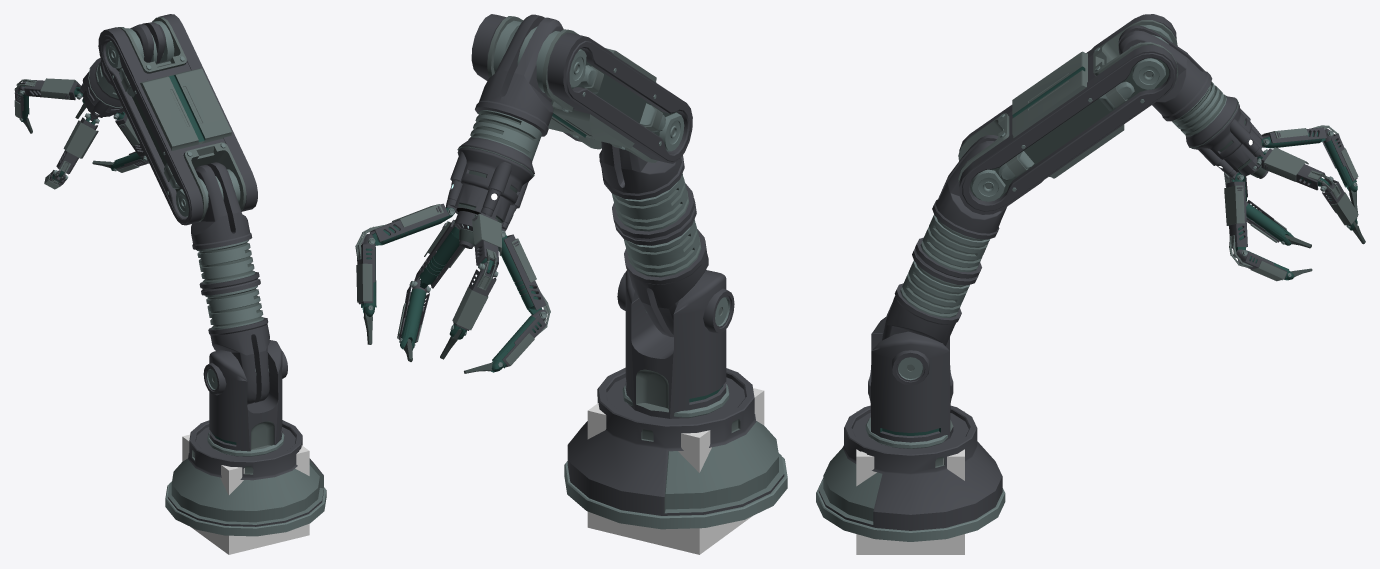
File: robot.glb
3 renders of one model, left to right at view 1: azimuth 30°, elevation 25°; view 2: azimuth 150°, elevation 25°; view 3: azimuth 270°, elevation 25°, orthographic. The views are drawn at different scales.
Visible parts, largest first — view 1: joint3, joint2, joint0, joint1, joint4, Cube, joint_base, finger0.4, finger0.3, finger0.1, Cylinder.005, finger1.1 (+1 smaller); view 2: joint0, joint3, joint4, joint2, joint1, Cube, joint_base, finger0.4, finger0.1, finger0.2, finger1.3, finger1.2 (+4 smaller); view 3: joint3, joint0, joint2, joint1, joint4, Cube, joint_base, finger0.2, finger0.1, finger0.3, finger1.3, finger1.2 (+2 smaller).
Part boxes in pixels (left/top/right/bottom): joint3: left=98, top=14, right=257, bottom=225; joint2: left=191, top=162, right=269, bottom=404; joint0: left=167, top=420, right=323, bottom=526; joint1: left=203, top=340, right=287, bottom=456; joint4: left=79, top=22, right=165, bottom=121; Cube: left=182, top=434, right=309, bottom=554; joint_base: left=165, top=484, right=326, bottom=536; finger0.4: left=56, top=113, right=99, bottom=179; finger0.3: left=19, top=78, right=82, bottom=100; finger0.1: left=113, top=111, right=145, bottom=156; Cylinder.005: left=207, top=432, right=284, bottom=456; finger1.1: left=111, top=151, right=149, bottom=172; joint0: left=567, top=367, right=784, bottom=515; joint3: left=471, top=14, right=692, bottom=163; joint4: left=445, top=14, right=563, bottom=248; joint2: left=599, top=141, right=708, bottom=337; joint1: left=617, top=270, right=734, bottom=418; Cube: left=587, top=388, right=764, bottom=554; joint_base: left=564, top=457, right=787, bottom=529; finger0.4: left=498, top=230, right=550, bottom=314; finger0.1: left=409, top=219, right=464, bottom=288; finger0.2: left=362, top=203, right=454, bottom=245; finger1.3: left=449, top=261, right=496, bottom=339; finger1.2: left=355, top=232, right=376, bottom=316; joint3: left=958, top=14, right=1178, bottom=214; joint0: left=818, top=405, right=1002, bottom=530; joint2: left=881, top=135, right=1006, bottom=345; joint1: left=868, top=317, right=953, bottom=448; joint4: left=1118, top=25, right=1268, bottom=180; Cube: left=856, top=411, right=964, bottom=554; joint_base: left=816, top=478, right=1005, bottom=541; finger0.2: left=1256, top=147, right=1333, bottom=190; finger0.1: left=1224, top=173, right=1247, bottom=256; finger0.3: left=1261, top=125, right=1329, bottom=148; finger1.3: left=1322, top=127, right=1358, bottom=192; finger1.2: left=1320, top=177, right=1358, bottom=230.
Size of the model in its own units: 3.49 by 10.23 by 10.14.
